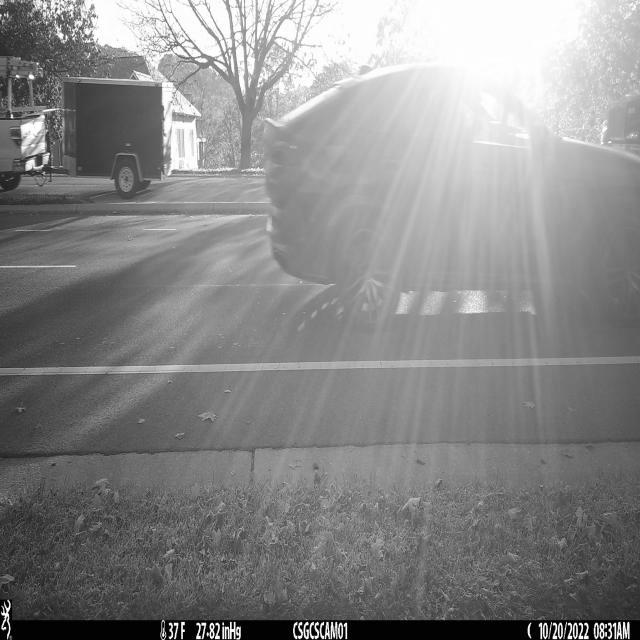SUV: (264, 64, 640, 332)
Trailer: (40, 79, 178, 198)
